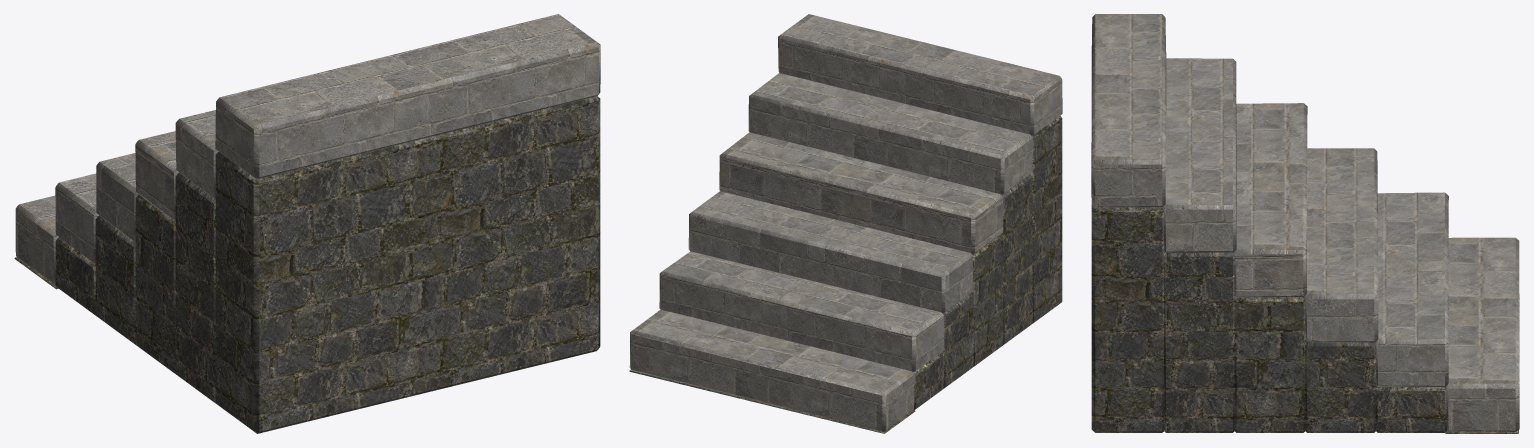
File: stone-stairs-v01.glb
The picture shows the model from 3 angles, left to right: view 1: azimuth 30°, elevation 25°; view 2: azimuth 150°, elevation 25°; view 3: azimuth 270°, elevation 25°; orthographic projection. The views are drawn at different scales.
Visible parts, largest first — view 1: stone-stairs; view 2: stone-stairs; view 3: stone-stairs.
Boxes of the visible parts, x1,y1,x2,y2 form: stone-stairs: (14,14,600,433); stone-stairs: (629,14,1062,433); stone-stairs: (1091,14,1519,433).
Bounding box in the file's own units: 2.01 × 1.71 × 2.43.
Materials: 2 (2 with a texture image).
